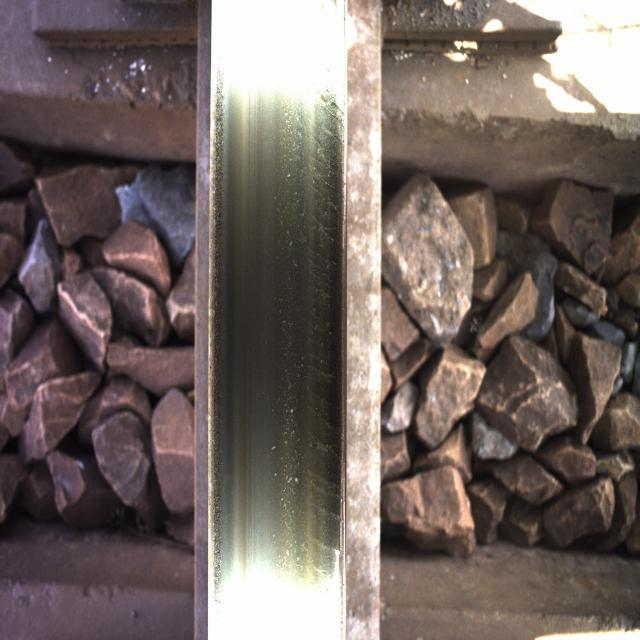normal: (232, 62, 348, 588)
